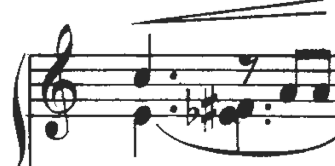treble_clef: (36, 20, 82, 145)
